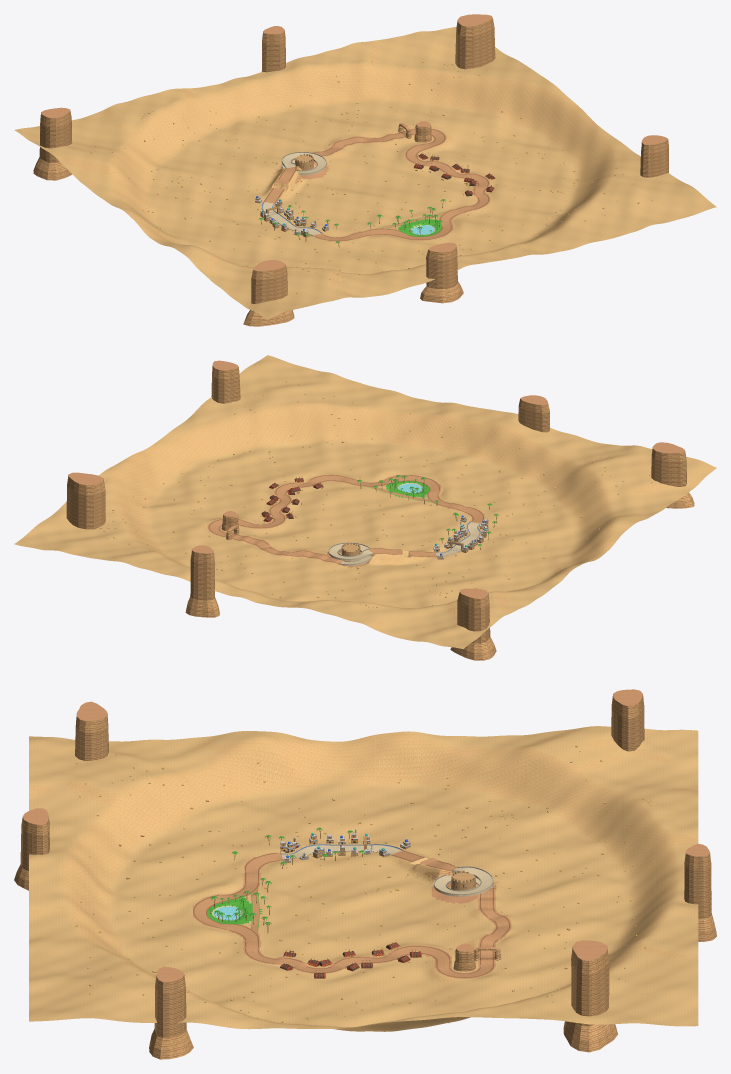
3 renders of one model, top to bottom at view 1: azimuth 30°, elevation 25°; view 2: azimuth 150°, elevation 25°; view 3: azimuth 270°, elevation 25°, orthographic. The views are drawn at different scales.
Visible parts, largest first — view 1: Desert, Far Butte 1, Far Butte 0, Far Butte 3, Far Butte 5, Far Butte 2, Far Butte 4, Road 08 spiral, Road 02 trail, Road 05 trail; view 2: Desert, Far Butte 1, Far Butte 0, Far Butte 4, Far Butte 3, Far Butte 2, Far Butte 5, Road 08 spiral, Road 04 trail, Road 02 trail, Road 03 trail, Road 07 trail; view 3: Desert, Far Butte 1, Far Butte 2, Far Butte 4, Far Butte 0, Far Butte 3, Far Butte 5, Road 08 spiral, Road 05 trail, Road 02 trail, Road 03 trail, Road 07 trail (+4 smaller).
Part boxes in pixels (bbox=[...]): Desert: bbox=[14, 27, 716, 319]; Far Butte 1: bbox=[455, 14, 495, 69]; Far Butte 0: bbox=[33, 107, 72, 180]; Far Butte 3: bbox=[243, 260, 294, 326]; Far Butte 5: bbox=[420, 242, 463, 303]; Far Butte 2: bbox=[640, 135, 668, 177]; Far Butte 4: bbox=[261, 26, 285, 72]; Road 08 spiral: bbox=[281, 152, 326, 175]; Road 02 trail: bbox=[313, 228, 409, 240]; Road 05 trail: bbox=[406, 144, 464, 177]; Desert: bbox=[14, 355, 716, 648]; Far Butte 1: bbox=[66, 472, 105, 529]; Far Butte 0: bbox=[450, 588, 496, 660]; Far Butte 4: bbox=[185, 545, 219, 617]; Far Butte 3: bbox=[651, 442, 694, 508]; Far Butte 2: bbox=[211, 360, 240, 403]; Far Butte 5: bbox=[518, 395, 549, 432]; Road 08 spiral: bbox=[328, 542, 373, 565]; Road 04 trail: bbox=[275, 475, 354, 498]; Road 02 trail: bbox=[427, 488, 483, 523]; Road 03 trail: bbox=[350, 475, 439, 489]; Road 07 trail: bbox=[255, 540, 343, 563]; Desert: bbox=[29, 726, 698, 1031]; Far Butte 1: bbox=[563, 940, 617, 1052]; Far Butte 2: bbox=[149, 966, 193, 1059]; Far Butte 4: bbox=[684, 843, 716, 941]; Far Butte 0: bbox=[611, 689, 644, 751]; Far Butte 3: bbox=[75, 701, 108, 760]; Far Butte 5: bbox=[14, 808, 49, 890]; Road 08 spiral: bbox=[433, 866, 493, 896]; Road 05 trail: bbox=[336, 946, 450, 966]; Road 02 trail: bbox=[215, 853, 282, 902]; Road 03 trail: bbox=[193, 897, 259, 942]; Road 07 trail: bbox=[479, 887, 510, 942].
Bounding box in the file's own units: 903 × 124 × 903.
48 materials, 48 textured.
